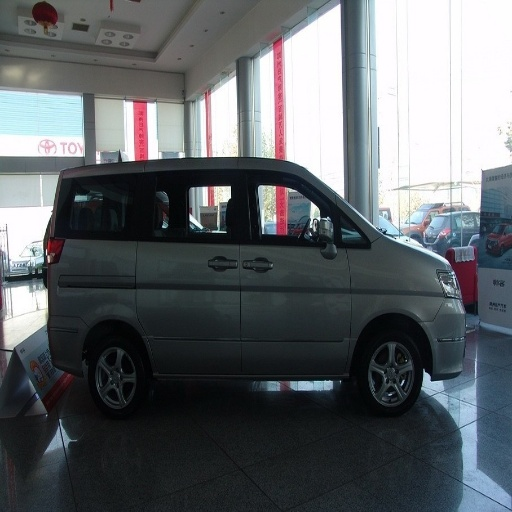front_right_door: (242, 163, 364, 368)
trunk: (53, 241, 133, 361)
